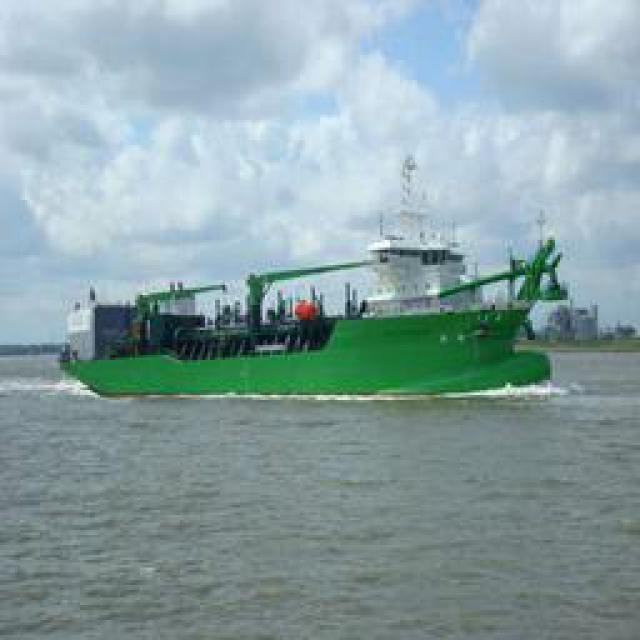Ship: (57, 153, 574, 420)
